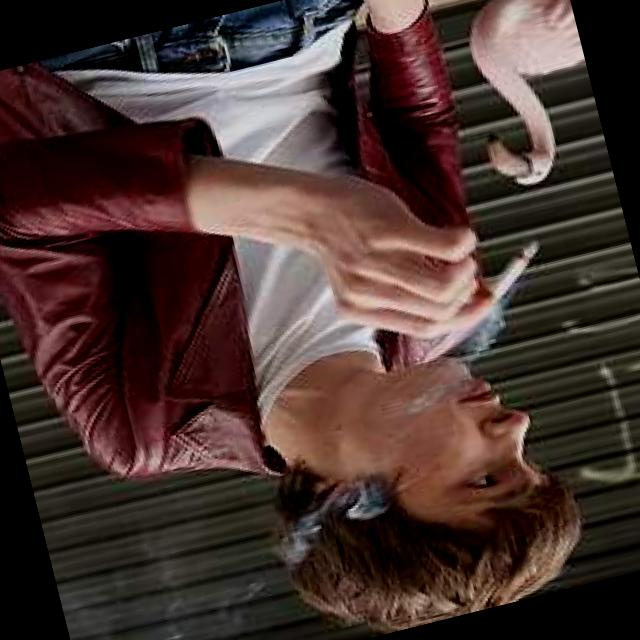cigarette: (457, 234, 554, 327)
